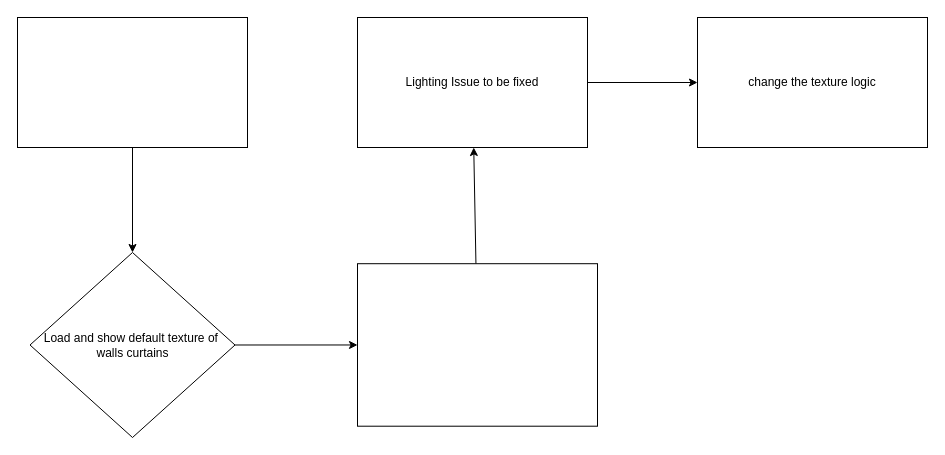
The diagram is 945 pixels wide and 455 high, and some of its shapes have lost their labels. Here are the shapes that lost their labels. From the top down, the box of each, then its label:
(16, 16, 248, 148): Room Model Rotation
(356, 263, 598, 426): Outer Background of the globle image fix
